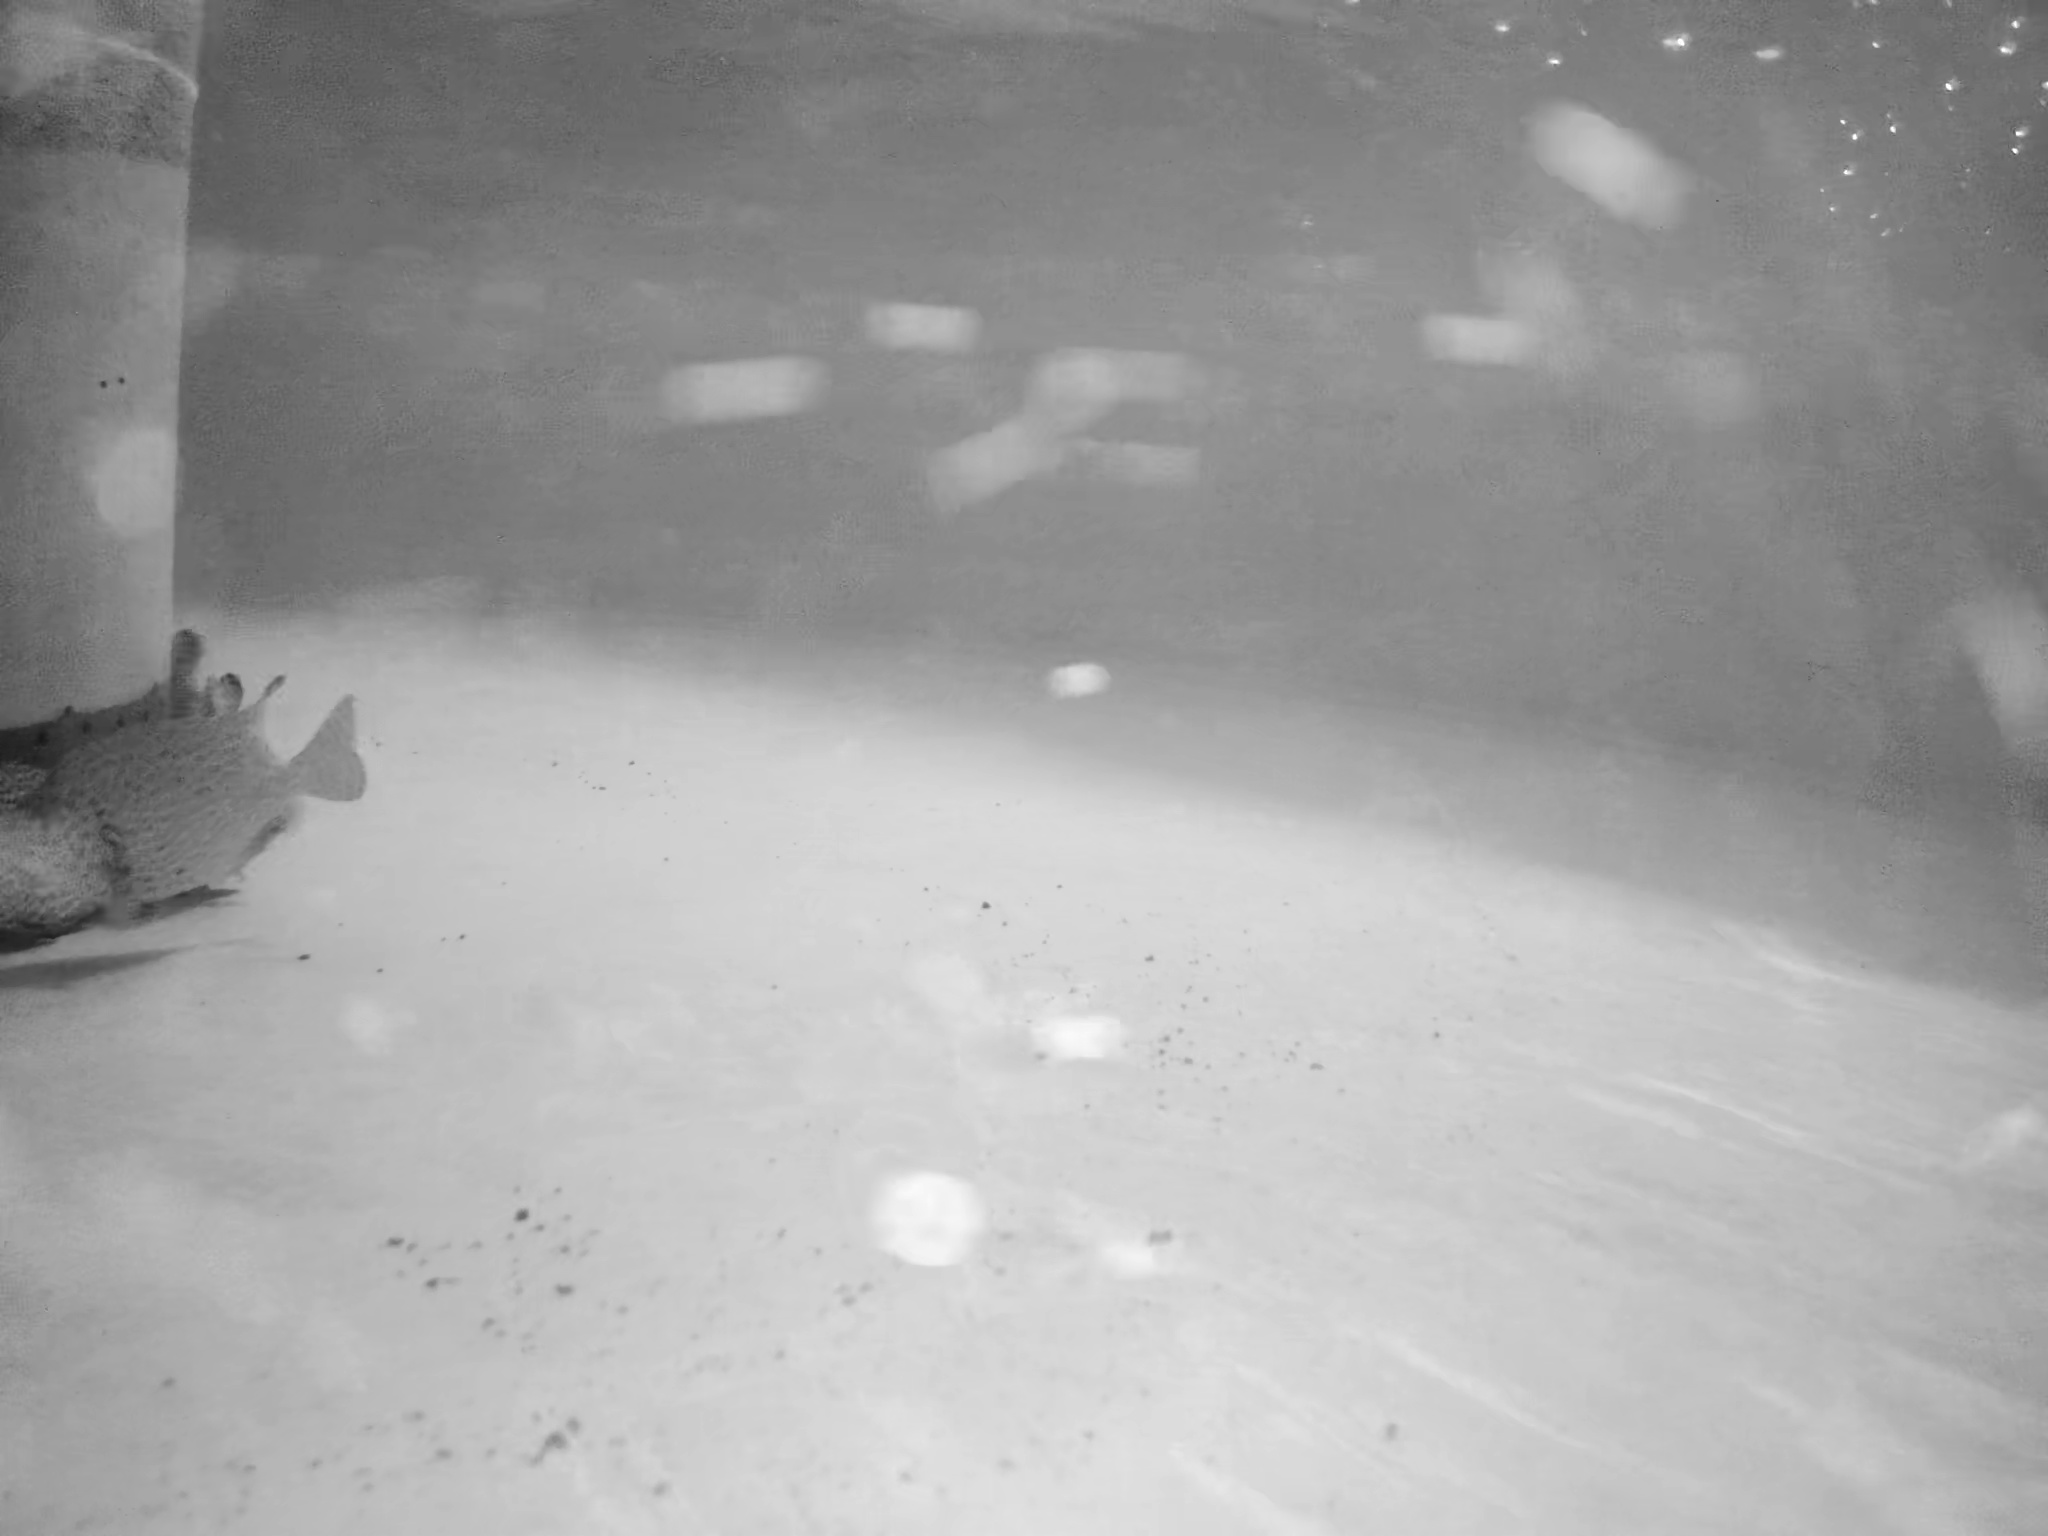fish: (2, 682, 376, 944)
